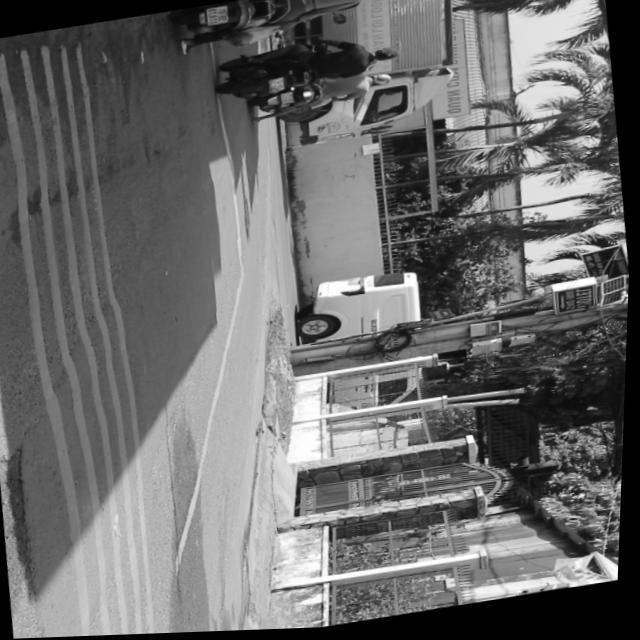helmet: (367, 0, 399, 0)
licenseplate: (170, 0, 405, 58)
nohelmet: (207, 6, 230, 26)
